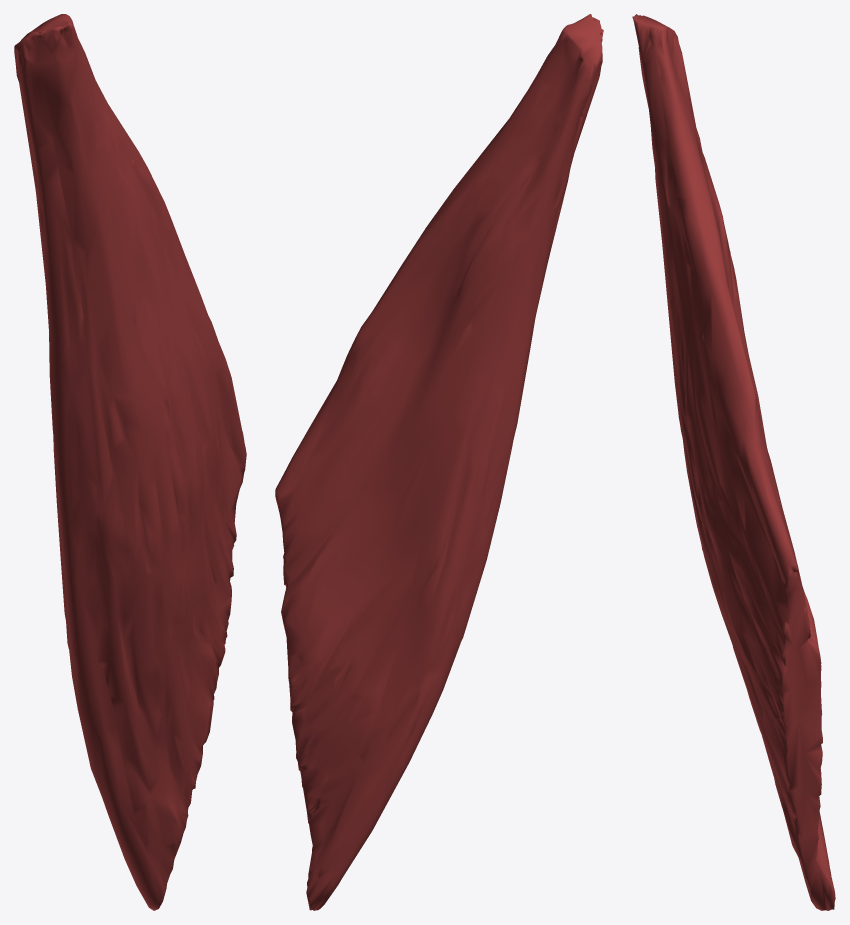
The model's file is adductor-longus-l.glb.
3 renders of one model, left to right at view 1: azimuth 30°, elevation 25°; view 2: azimuth 150°, elevation 25°; view 3: azimuth 270°, elevation 25°, orthographic. The views are drawn at different scales.
Parts seen in each view (by area): view 1: Adductor longus.l; view 2: Adductor longus.l; view 3: Adductor longus.l.
Boxes of the visible parts, <box> form: Adductor longus.l: <box>14,14,246,910</box>; Adductor longus.l: <box>275,14,603,910</box>; Adductor longus.l: <box>632,14,835,910</box>.
Size of the model in its own units: 0.0831 by 0.2648 by 0.0598.
